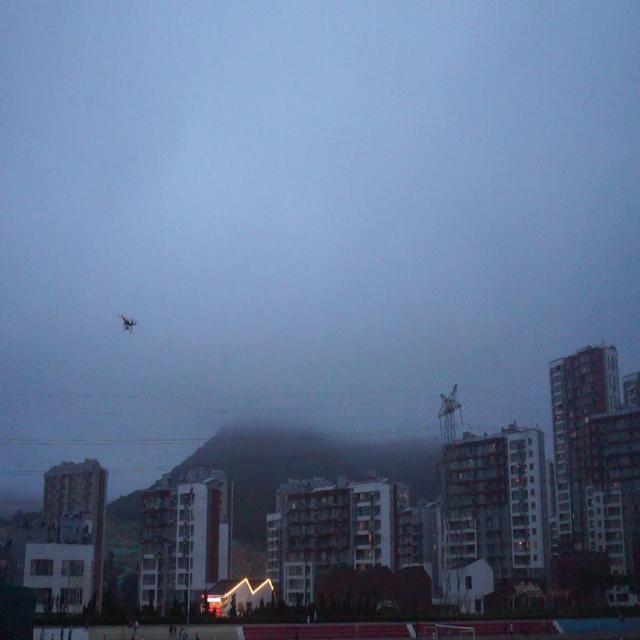UAV: (117, 313, 138, 334)
